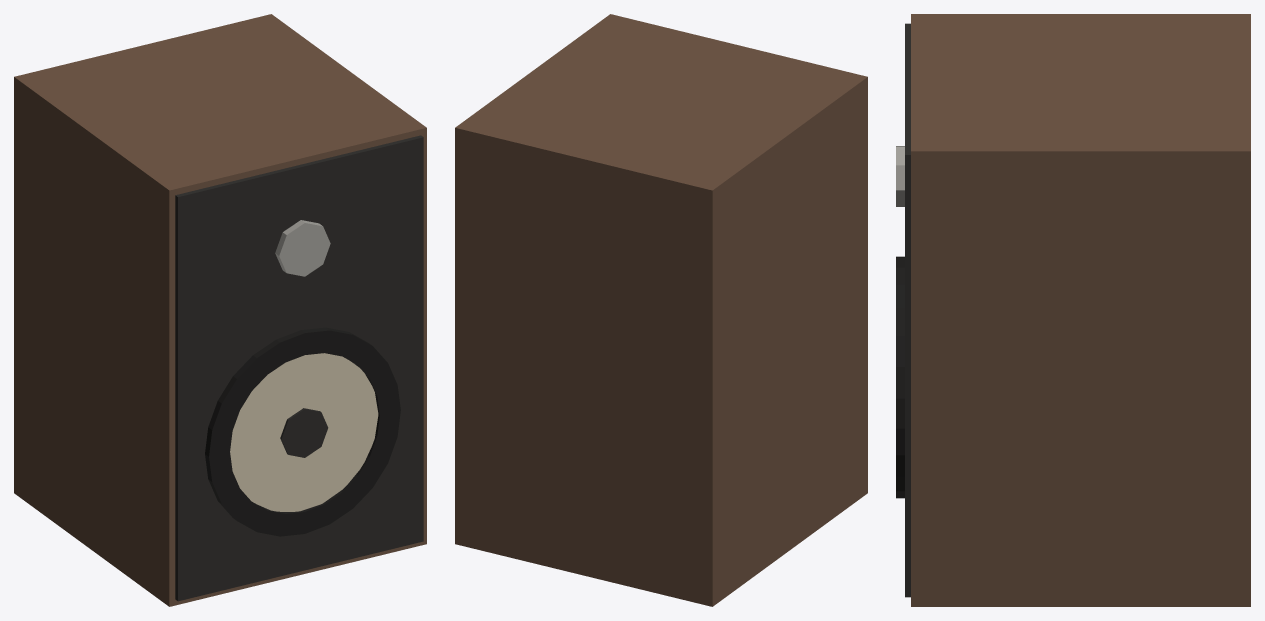
File: bookshelf-speaker.glb
3 renders of one model, left to right at view 1: azimuth 30°, elevation 25°; view 2: azimuth 150°, elevation 25°; view 3: azimuth 270°, elevation 25°, orthographic. The views are drawn at different scales.
Parts seen in each view (by area): view 1: wood, plastic-dark, paper, rubber, brushed; view 2: wood; view 3: wood, plastic-dark, rubber, brushed.
Part boxes in pixels (<box>): wood: <box>14,14,426,606</box>; plastic-dark: <box>175,135,423,601</box>; paper: <box>230,353,378,511</box>; rubber: <box>205,327,400,536</box>; brushed: <box>275,220,330,276</box>; wood: <box>455,14,867,606</box>; wood: <box>911,14,1250,606</box>; plastic-dark: <box>905,23,910,597</box>; rubber: <box>896,256,904,498</box>; brushed: <box>896,146,904,206</box>.
Bounding box in the file's own units: 0.22 × 0.34 × 0.24.
